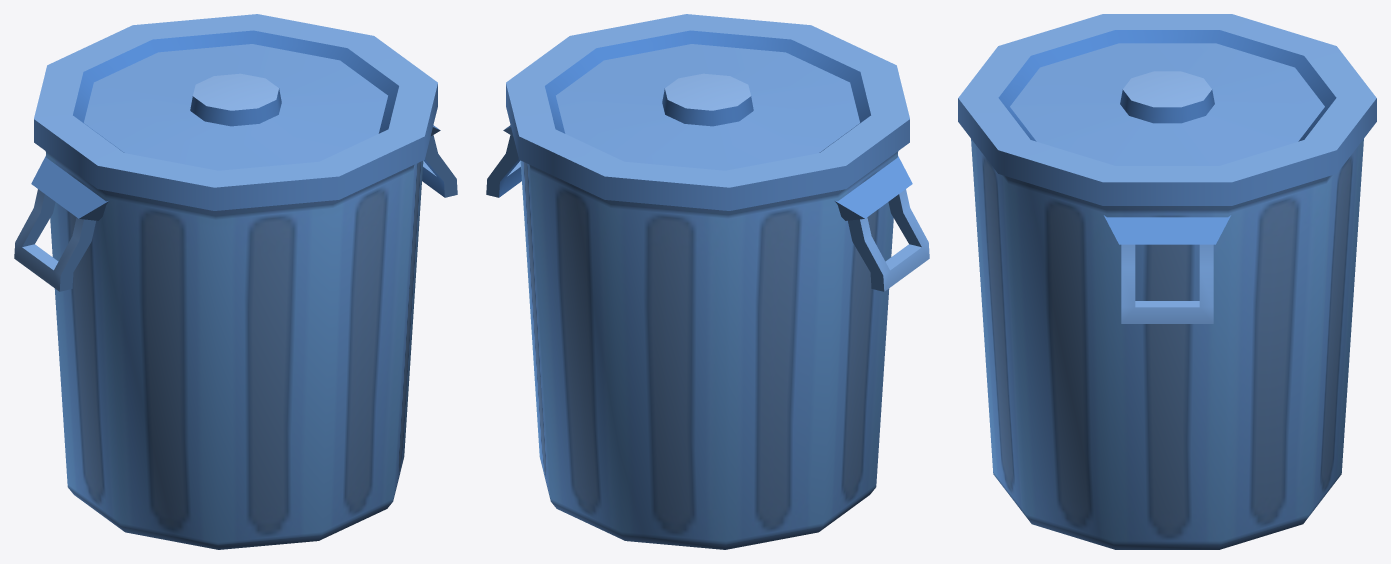
Rendered from Trash_can.FBX.
3 views of the same model, side by side, from view 1: azimuth 30°, elevation 25°; view 2: azimuth 150°, elevation 25°; view 3: azimuth 270°, elevation 25° (orthographic).
Parts seen in each view (by area): view 1: Object083, Cylinder001; view 2: Object083, Cylinder001; view 3: Object083, Cylinder001.
Part boxes in pixels (x1,y1,x2,y2): Object083: [14, 125, 457, 549]; Cylinder001: [34, 14, 437, 210]; Object083: [486, 125, 929, 549]; Cylinder001: [506, 14, 909, 210]; Object083: [971, 139, 1363, 549]; Cylinder001: [958, 14, 1376, 205].
Bounding box in the file's own units: 27.2 × 24.46 × 25.48.
